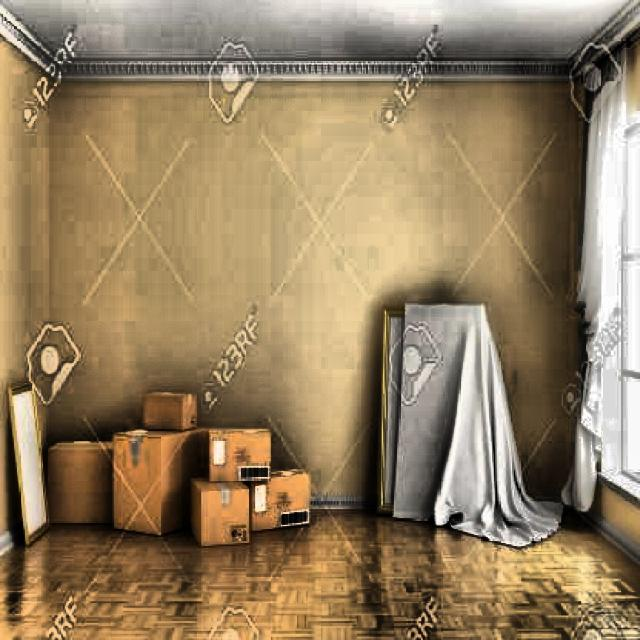Cardbox: (191, 470, 311, 550), (211, 430, 270, 480)
